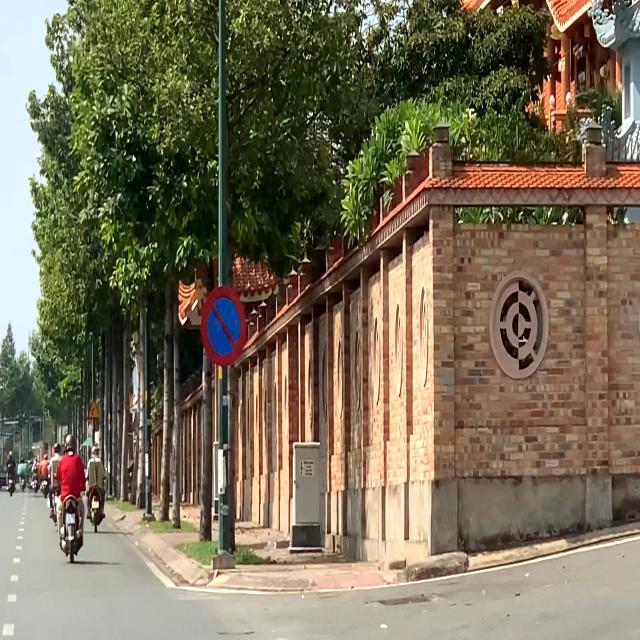Cam do xe: (200, 284, 247, 368)
cho ngoat nguy hiem vong ben phai: (87, 399, 100, 420)
